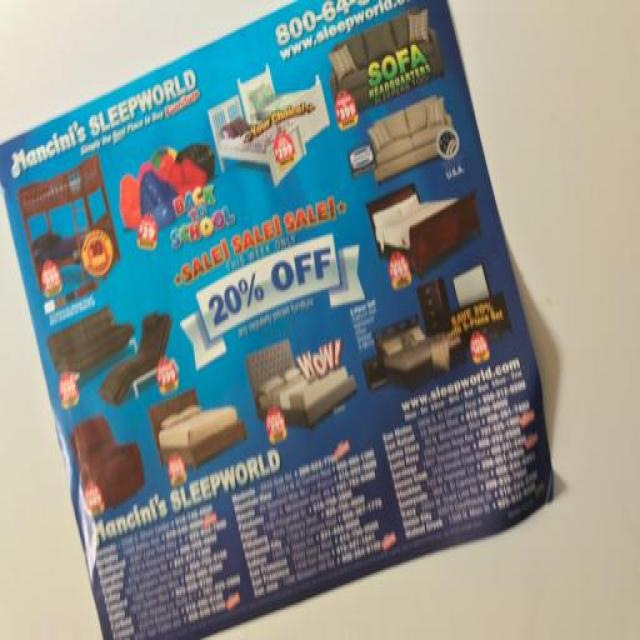paper: (1, 2, 572, 640)
